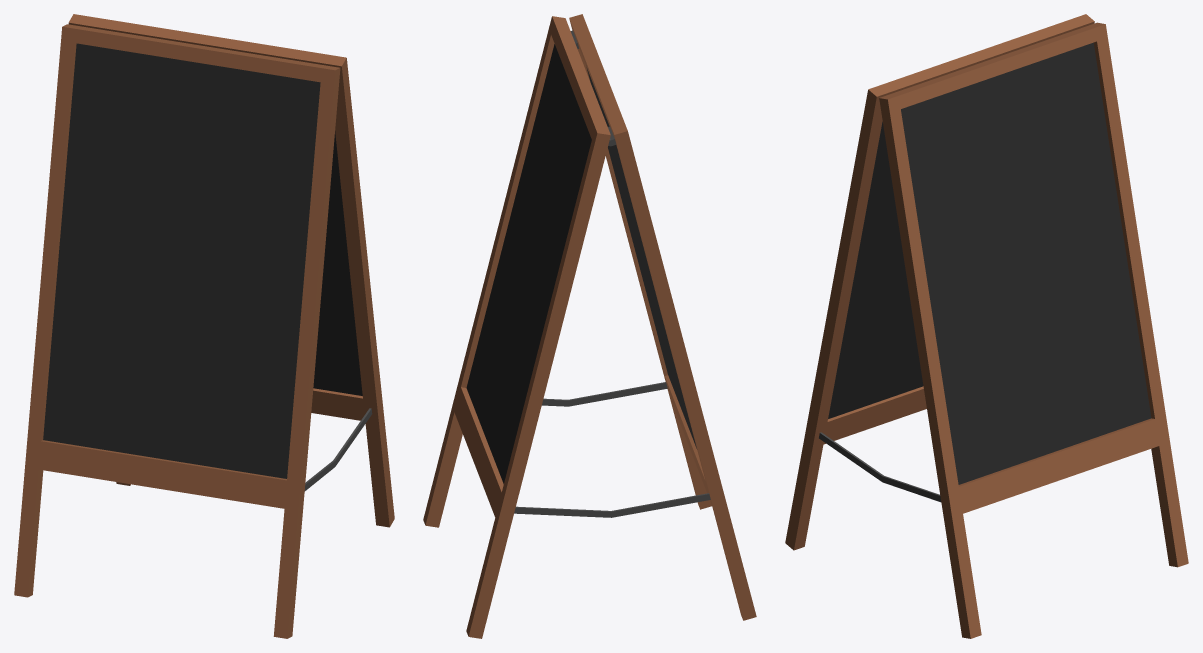
The model's file is Chalkboard.fbx.
3 views of the same model, side by side, from view 1: azimuth 30°, elevation 25°; view 2: azimuth 150°, elevation 25°; view 3: azimuth 270°, elevation 25° (orthographic). The views are drawn at different scales.
Parts seen in each view (by area): view 1: Chalkboard; view 2: Chalkboard; view 3: Chalkboard.
Part boxes in pixels (x1,y1,x2,y2): Chalkboard: (14,14,394,638); Chalkboard: (423,14,756,638); Chalkboard: (785,14,1188,638).
Bounding box in the file's own units: 71.93 × 97.84 × 71.64.
